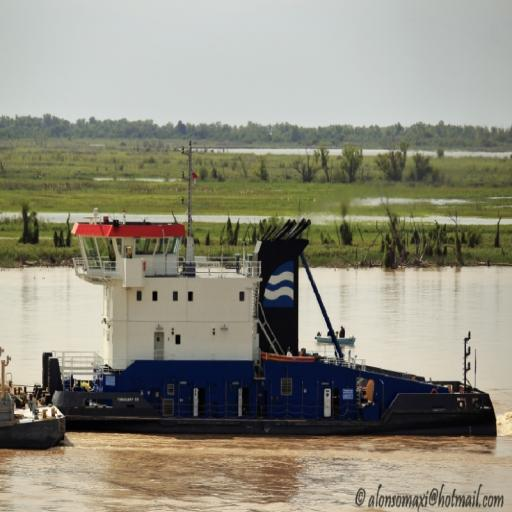tugboat: (40, 138, 502, 450)
